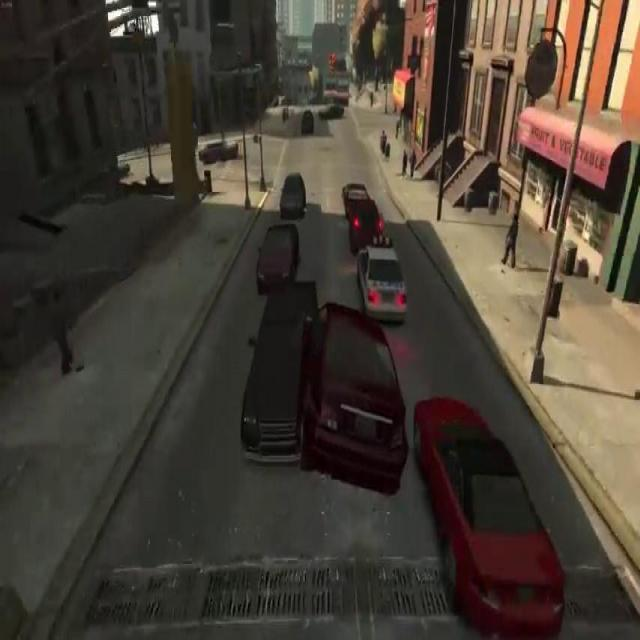accident: (231, 270, 409, 494)
